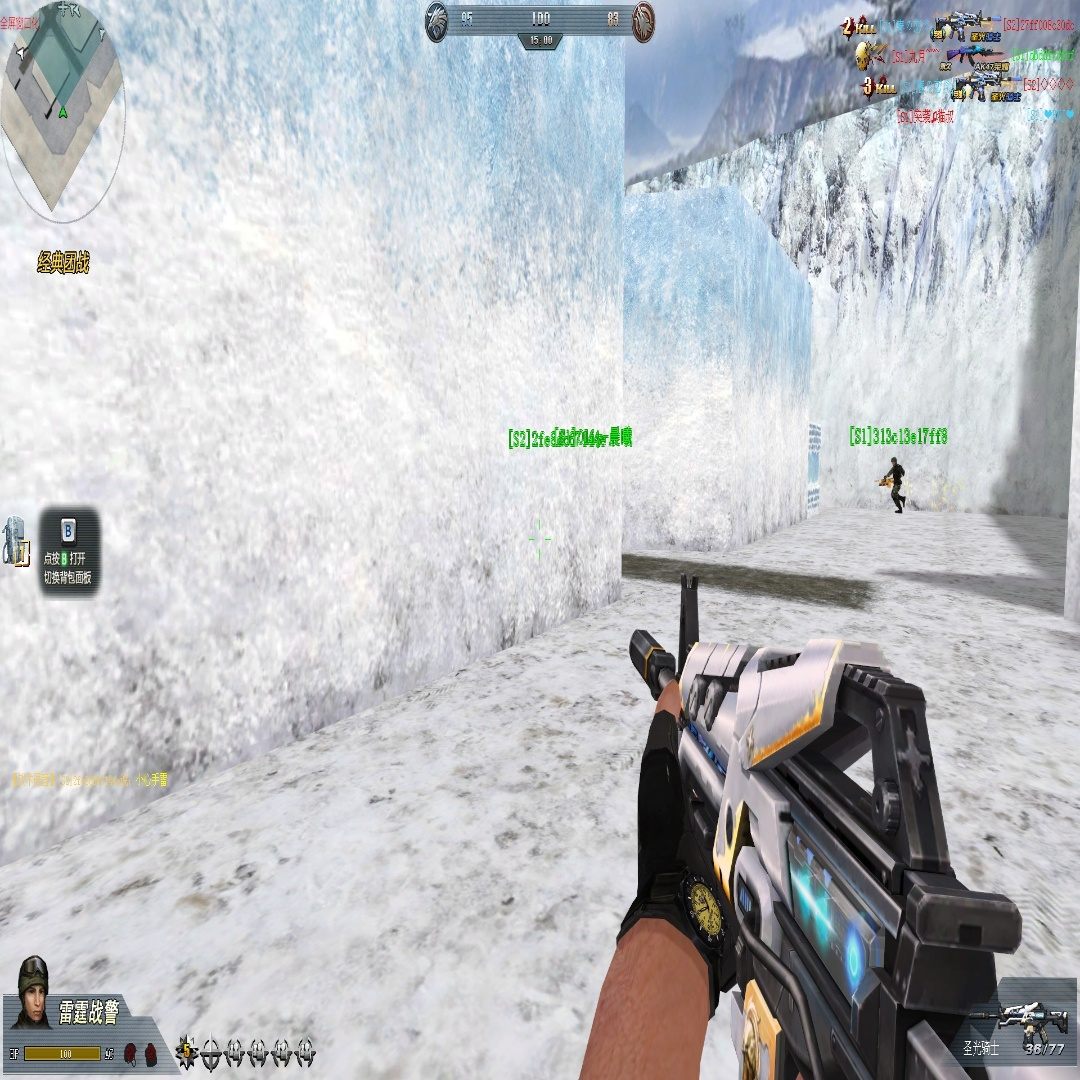ct: (878, 454, 906, 513)
